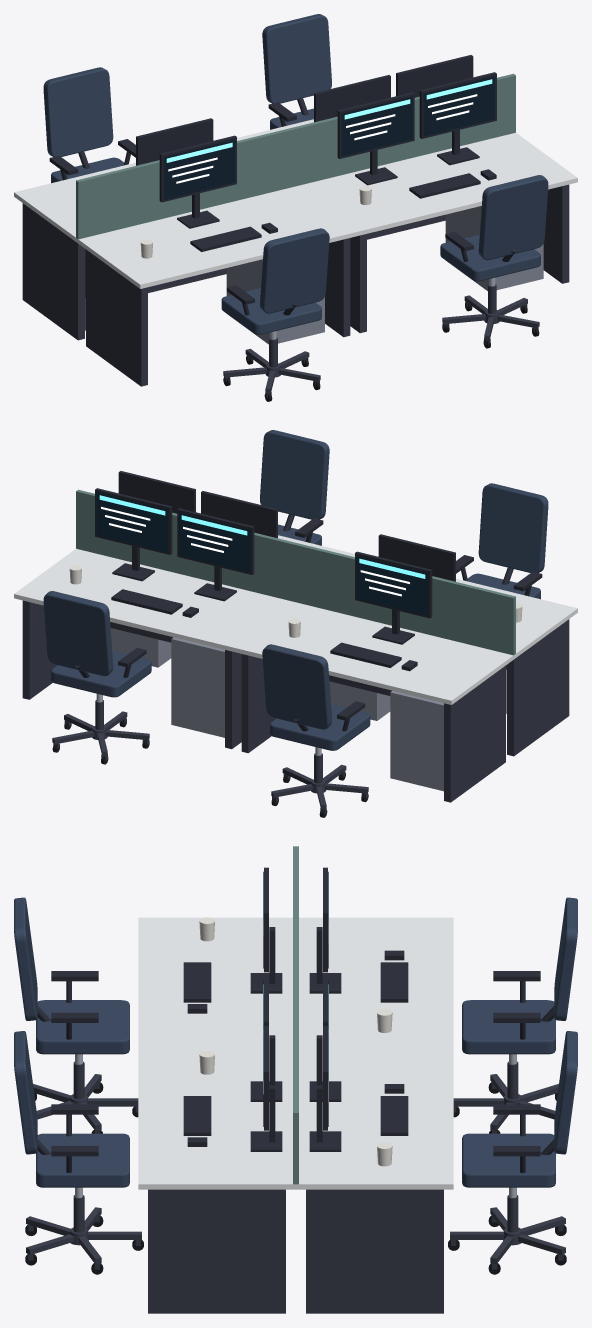
3 renders of one model, top to bottom at view 1: azimuth 30°, elevation 25°; view 2: azimuth 150°, elevation 25°; view 3: azimuth 270°, elevation 25°, orthographic. The views are drawn at different scales.
Parts seen in each view (by area): view 1: white, chair_fabric, dark_steel, felt_divider, plastic_dark, monitor_screen, locker_grey, display_white, pump_screen, rubber; view 2: white, chair_fabric, dark_steel, felt_divider, plastic_dark, locker_grey, monitor_screen, display_white, pump_screen, ceramic_white, rubber; view 3: white, dark_steel, chair_fabric, plastic_dark, felt_divider, ceramic_white, rubber.
Boxes of the visible parts, x1=… form: white: x1=14, y1=119, x2=577, y2=288; chair_fabric: x1=43, y1=14, x2=548, y2=334; dark_steel: x1=22, y1=184, x2=569, y2=398; felt_divider: x1=76, y1=73, x2=515, y2=239; plastic_dark: x1=49, y1=55, x2=516, y2=315; monitor_screen: x1=164, y1=76, x2=494, y2=199; locker_grey: x1=85, y1=206, x2=543, y2=344; display_white: x1=168, y1=94, x2=477, y2=183; pump_screen: x1=166, y1=79, x2=492, y2=162; rubber: x1=223, y1=303, x2=539, y2=401; white: x1=14, y1=535, x2=577, y2=704; chair_fabric: x1=43, y1=430, x2=548, y2=750; dark_steel: x1=22, y1=600, x2=569, y2=814; felt_divider: x1=76, y1=489, x2=515, y2=655; plastic_dark: x1=75, y1=471, x2=542, y2=731; locker_grey: x1=110, y1=628, x2=443, y2=791; monitor_screen: x1=97, y1=492, x2=427, y2=615; display_white: x1=101, y1=506, x2=409, y2=596; pump_screen: x1=99, y1=495, x2=425, y2=578; ceramic_white: x1=69, y1=565, x2=522, y2=637; rubber: x1=52, y1=719, x2=368, y2=817; white: x1=138, y1=917, x2=453, y2=1189; dark_steel: x1=26, y1=1061, x2=565, y2=1313; chair_fabric: x1=14, y1=897, x2=577, y2=1187; plastic_dark: x1=37, y1=867, x2=554, y2=1172; felt_divider: x1=293, y1=846, x2=298, y2=1184; ceramic_white: x1=199, y1=917, x2=392, y2=1166; rubber: x1=25, y1=1082, x2=566, y2=1274.
Size of the model in its own units: 3.2 by 1.26 by 2.86.
